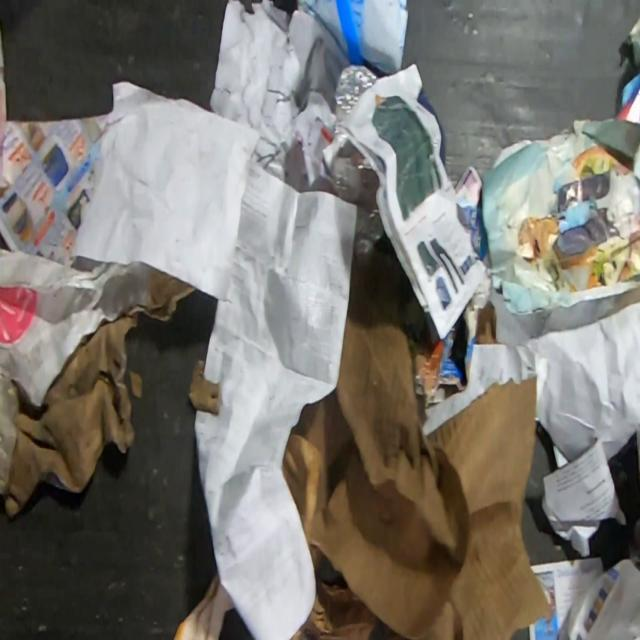cardboard: (0, 246, 198, 521)
rigid_plastic: (330, 63, 386, 256)
